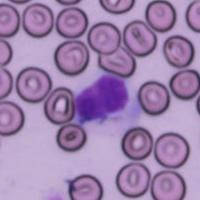M: (72, 70, 142, 138)
